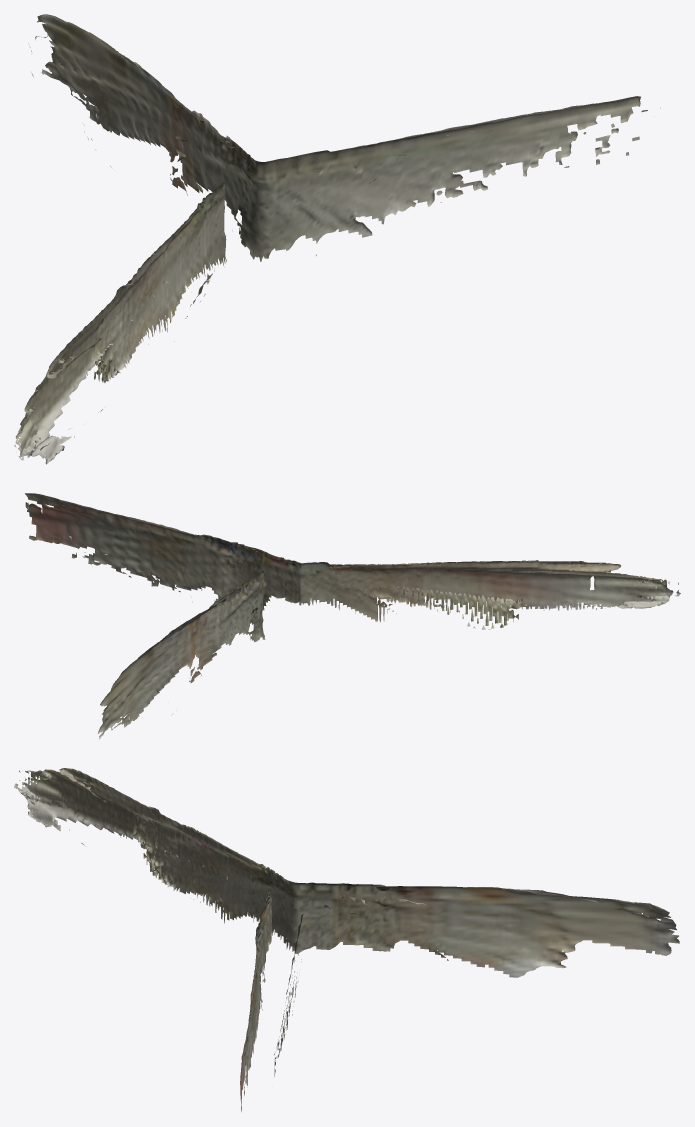
Rendered from collider.glb.
3 renders of one model, top to bottom at view 1: azimuth 30°, elevation 25°; view 2: azimuth 150°, elevation 25°; view 3: azimuth 270°, elevation 25°, orthographic. The views are drawn at different scales.
Visible parts, largest first — view 1: world; view 2: world; view 3: world.
Part boxes in pixels (<box>): world: <box>14,14,660,464</box>; world: <box>25,493,680,739</box>; world: <box>14,768,679,1111</box>.
Bounding box in the file's own units: 81.42 × 10.65 × 71.62.
